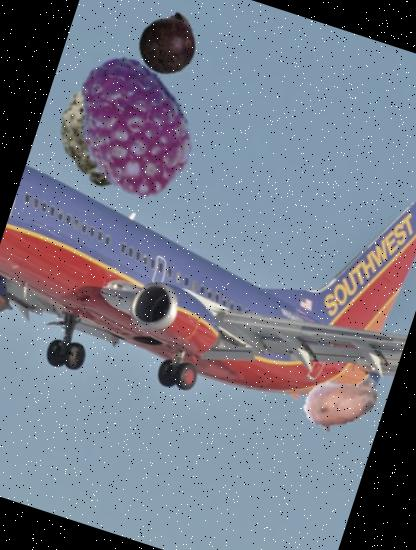Banana: (292, 358, 390, 456)
Cauliflower: (41, 63, 176, 199)
Mangostan: (130, 5, 208, 83)
Raspberry: (39, 38, 219, 218)
